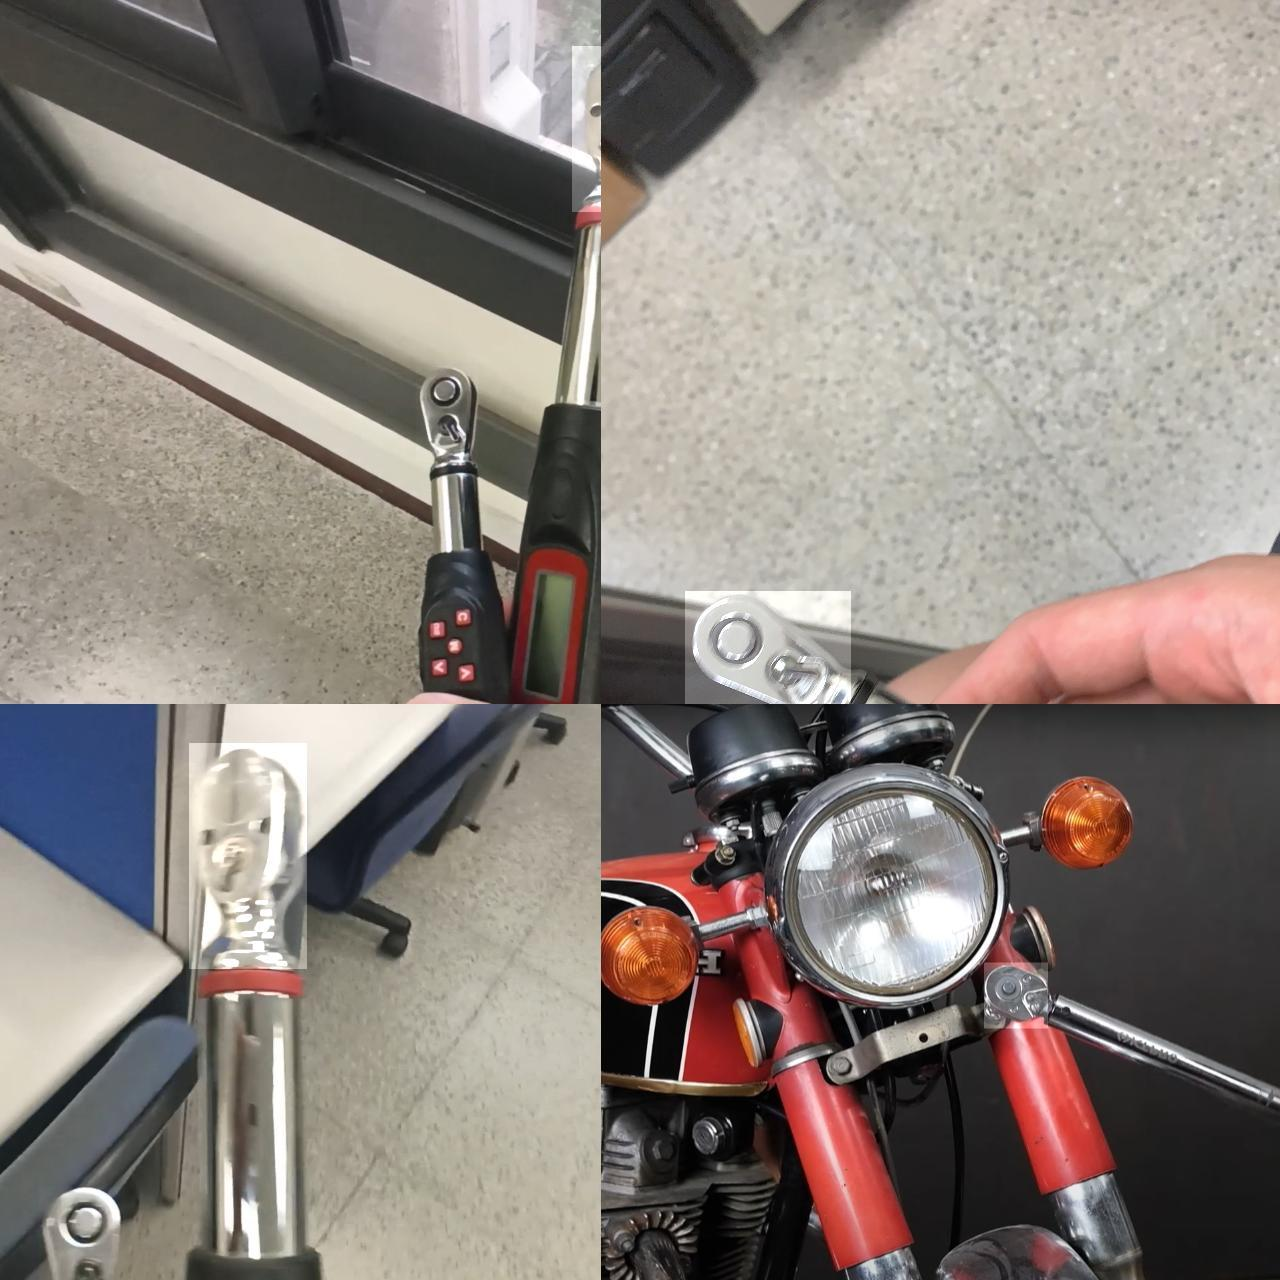Tool: (188, 742, 306, 968), (685, 590, 850, 704), (38, 1186, 124, 1280), (415, 365, 477, 461), (571, 45, 601, 211), (983, 962, 1047, 1028)
